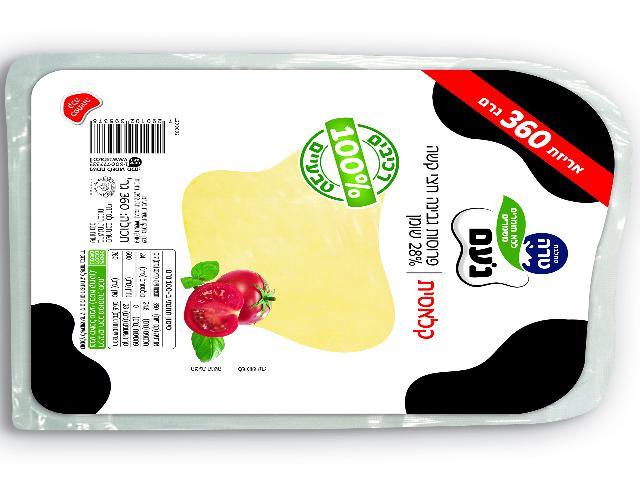cheese: (5, 52, 634, 430)
